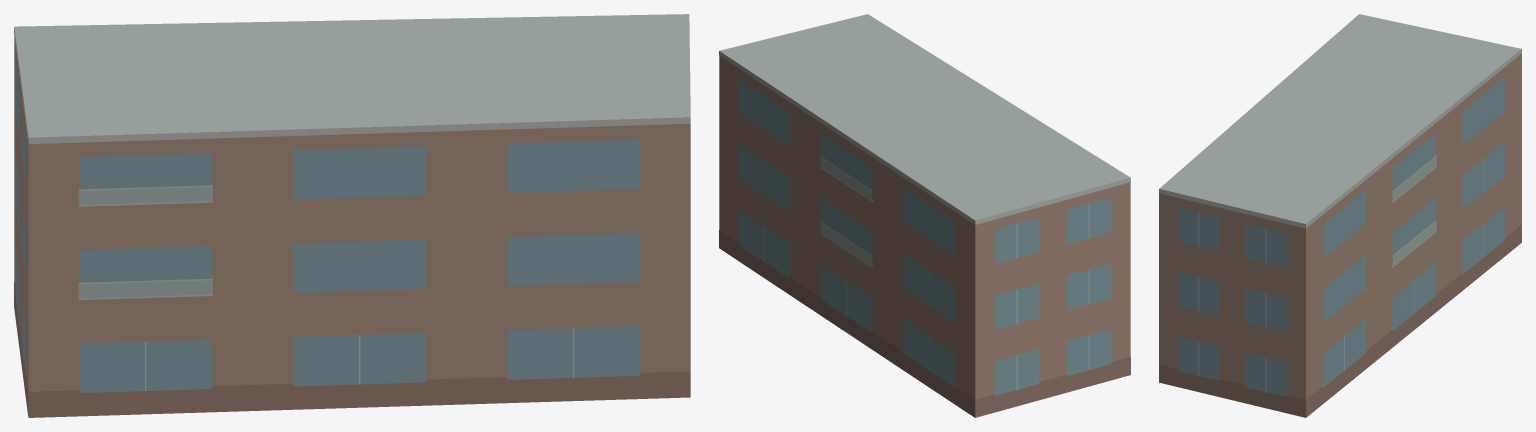
The model's file is survey-upis-32634248.glb.
The picture shows the model from 3 angles, left to right: view 1: azimuth 30°, elevation 25°; view 2: azimuth 150°, elevation 25°; view 3: azimuth 270°, elevation 25°; orthographic projection. The views are drawn at different scales.
Parts seen in each view (by area): view 1: survey-upis-32634248.tmp; view 2: survey-upis-32634248.tmp; view 3: survey-upis-32634248.tmp.
Part boxes in pixels (box(x1,y1,x2,y2)): survey-upis-32634248.tmp: box(14, 14, 690, 417); survey-upis-32634248.tmp: box(719, 14, 1130, 417); survey-upis-32634248.tmp: box(1159, 14, 1521, 417).
Size of the model in its own units: 24.66 by 10.6 by 17.99.
